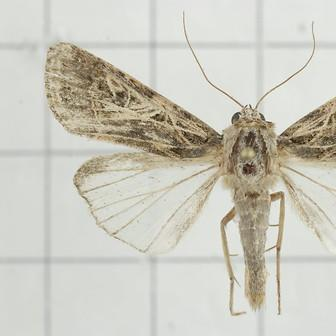Spodoptera litura: (44, 11, 336, 317)
